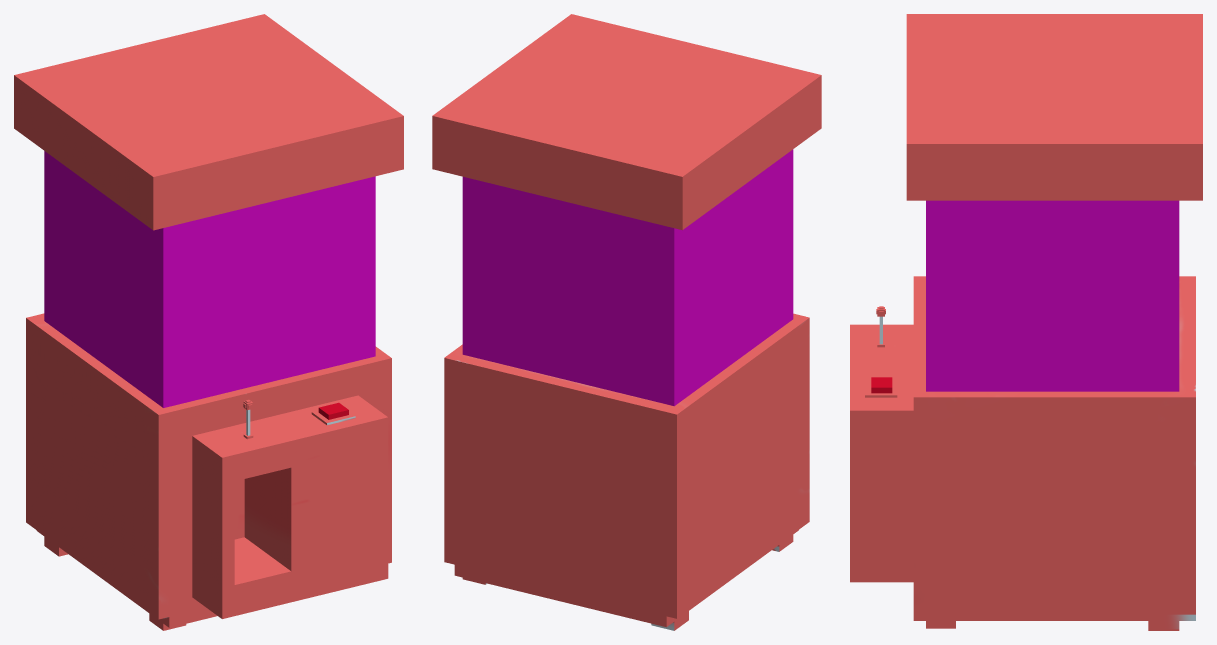
File: PlinkoMachine.fbx
The picture shows the model from 3 angles, left to right: view 1: azimuth 30°, elevation 25°; view 2: azimuth 150°, elevation 25°; view 3: azimuth 270°, elevation 25°; orthographic projection. The views are drawn at different scales.
Parts seen in each view (by area): view 1: Cube.001; view 2: Cube.001; view 3: Cube.001.
Part boxes in pixels (x1,y1,x2,y2): Cube.001: (14, 14, 403, 630); Cube.001: (432, 14, 821, 630); Cube.001: (850, 14, 1202, 630).
Bounding box in the file's own units: 185 × 330 × 213.
5 materials, 1 textured.
